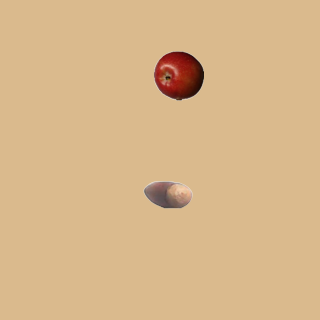Apple Braeburn: (153, 50, 203, 100)
Hazelnut: (142, 169, 192, 219)
